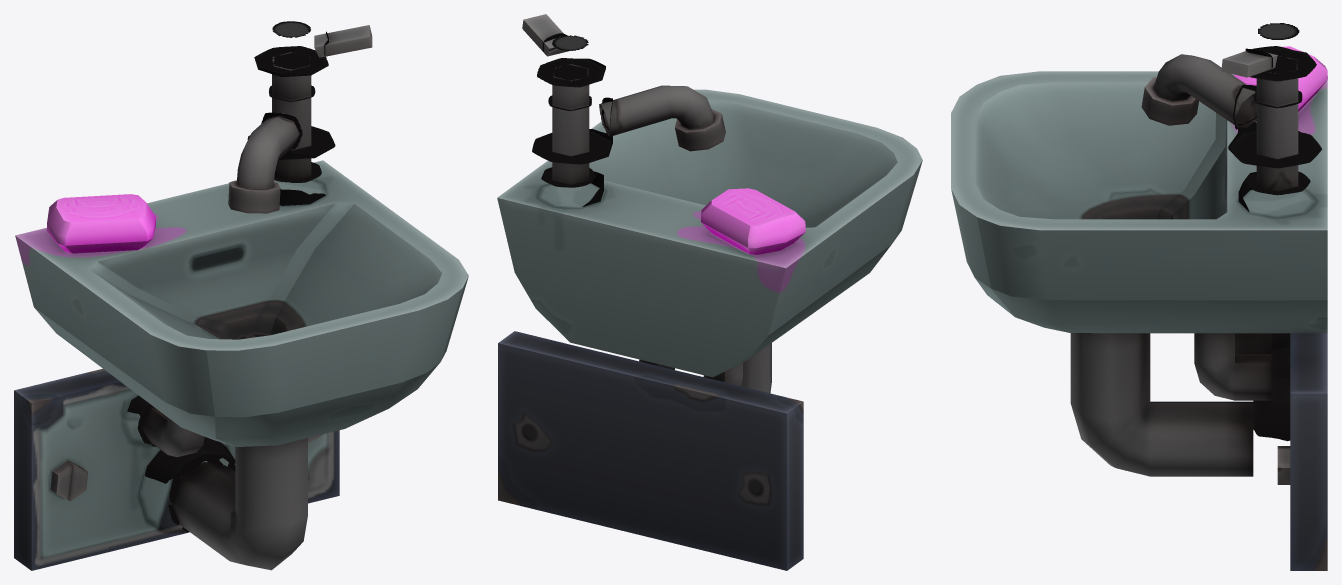
The model's file is obj_decor_sink.fbx.
3 renders of one model, left to right at view 1: azimuth 30°, elevation 25°; view 2: azimuth 150°, elevation 25°; view 3: azimuth 270°, elevation 25°, orthographic. The views are drawn at different scales.
Visible parts, largest first — view 1: obj_decor_sink; view 2: obj_decor_sink; view 3: obj_decor_sink.
Part boxes in pixels (<box>): obj_decor_sink: <box>14,21,468,570</box>; obj_decor_sink: <box>497,14,922,570</box>; obj_decor_sink: <box>951,23,1327,570</box>.
Size of the model in its own units: 2.08 by 3 by 2.
Materials: 1 (1 with a texture image).
